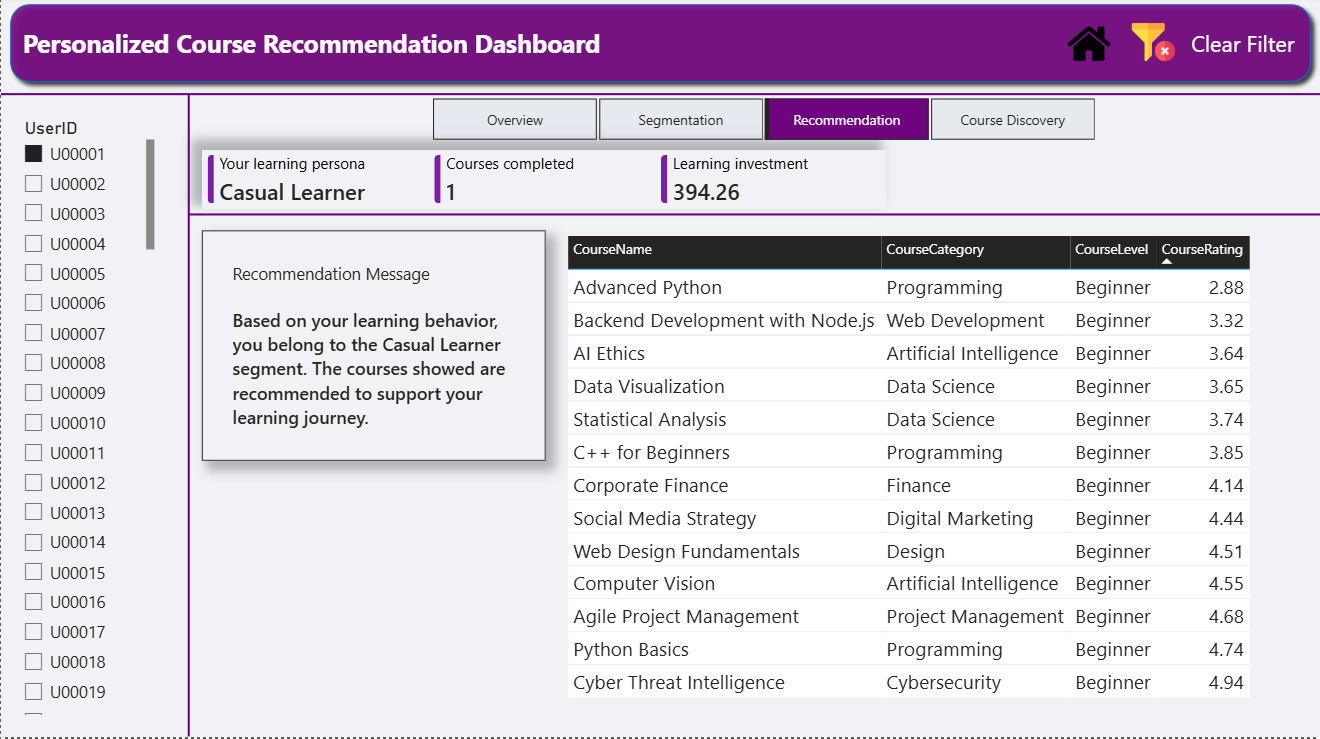

The dashboard page shown, as its layout file describes it:
{"tool":"powerbi","page":{"name":" Recommendation","canvas":[1280,720],"ordinal":2},"visuals":[{"type":"slicer","fields":{"Values":["Learner_Profile.UserID"]},"box":[10.3,112.8,143.6,589.7],"z":0},{"type":"cardVisual","fields":{"Data":["Learner_Profile.Selected User Segment","Learner_Profile.Selected User Courses","Learner_Profile.Selected User Spending"]},"box":[195.7,149.3,663.8,58],"z":1000},{"type":"tableEx","fields":{"Values":["Courses.CourseName","Courses.CourseCategory","Courses.CourseLevel","Courses.CourseRating"]},"box":[545,228.3,723.3,475],"z":2000},{"type":"shape","box":[0,0,1280,93.3],"z":3000},{"type":"textbox","box":[15.4,24.6,700,49.2],"z":4000},{"type":"shape","box":[0,80,1280,32.3],"z":5000},{"type":"shape","box":[156.7,96.7,50,623.3],"z":6000},{"type":"shape","box":[181.7,198.3,1098.3,30],"z":7000},{"type":"cardVisual","fields":{"Data":["Learner_Profile.Recommendation Message"]},"box":[195,228.3,333.3,223.3],"z":8000},{"type":"textbox","box":[1150,26.7,120,45],"z":9000},{"type":"image","box":[1086.7,25,61.7,41.7],"z":10000},{"type":"image","box":[1025,26.7,61.7,41.7],"z":11000},{"type":"pageNavigator","box":[418.8,100,642,40.6],"z":12000}]}

Visuals, with their boxes in screenshot pixels (x1, y1, x2, y2), scaled from the page's 1280x720 canvas onto the 1320x739 screenshot:
slicer - Learner_Profile.UserID: (left=11, top=116, right=159, bottom=721)
cardVisual - Learner_Profile.Selected User Segment x Learner_Profile.Selected User Courses: (left=202, top=153, right=886, bottom=213)
tableEx - Courses.CourseName x Courses.CourseCategory: (left=562, top=234, right=1308, bottom=722)
shape: (left=0, top=0, right=1319, bottom=96)
textbox: (left=16, top=25, right=738, bottom=76)
shape: (left=0, top=82, right=1319, bottom=115)
shape: (left=162, top=99, right=213, bottom=738)
shape: (left=187, top=204, right=1319, bottom=234)
cardVisual - Learner_Profile.Recommendation Message: (left=201, top=234, right=545, bottom=464)
textbox: (left=1186, top=27, right=1310, bottom=74)
image: (left=1121, top=26, right=1184, bottom=68)
image: (left=1057, top=27, right=1121, bottom=70)
pageNavigator: (left=432, top=103, right=1094, bottom=144)
